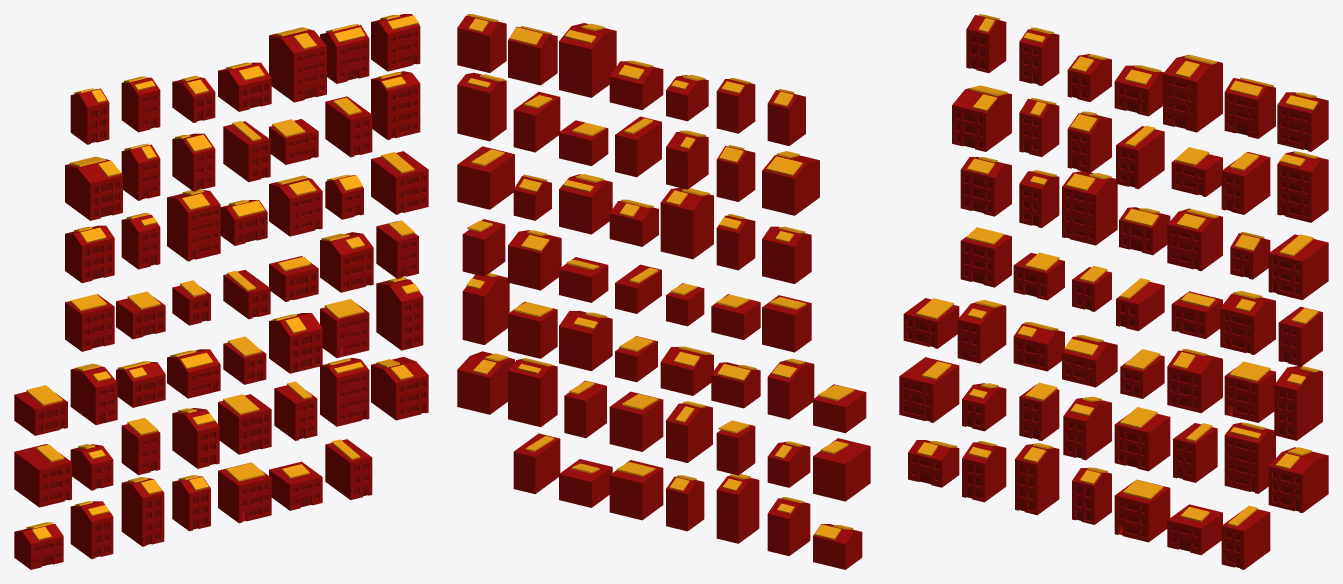
File: Sahne2Acilacak.gltf
3 renders of one model, left to right at view 1: azimuth 30°, elevation 25°; view 2: azimuth 150°, elevation 25°; view 3: azimuth 330°, elevation 25°, orthographic. The views are drawn at different scales.
Parts seen in each view (by area): view 1: Building_049.003, Building_037.003, Building_067.003, Building_061.003, Building_068.003, Building_020.003, Building_064.003, Building_065.003, Building_022.003, Building_059.003, Building_053.003, Building_051.003 (+39 smaller); view 2: Building_049.003, Building_037.003, Building_064.003, Building_061.003, Building_020.003, Building_067.003, Building_065.003, Building_053.003, Building_022.003, Building_068.003, Building_034.003, Building_051.003 (+39 smaller); view 3: Building_049.003, Building_037.003, Building_067.003, Building_068.003, Building_020.003, Building_064.003, Building_065.003, Building_061.003, Building_022.003, Building_059.003, Building_053.003, Building_051.003 (+39 smaller).
Boxes of the visible parts, x1,y1,x2,y2 form: Building_049.003: (269, 27, 326, 102); Building_037.003: (167, 189, 220, 261); Building_067.003: (376, 279, 423, 350); Building_061.003: (320, 358, 369, 426); Building_068.003: (371, 357, 428, 420); Building_020.003: (14, 444, 71, 507); Building_064.003: (371, 71, 420, 139); Building_065.003: (371, 151, 428, 214); Building_022.003: (65, 159, 122, 220); Building_059.003: (320, 232, 373, 292); Building_053.003: (269, 313, 322, 373); Building_051.003: (269, 178, 322, 236); Building_049.003: (559, 23, 616, 97); Building_037.003: (660, 188, 713, 259); Building_064.003: (457, 72, 506, 141); Building_061.003: (508, 359, 557, 427); Building_020.003: (813, 438, 870, 501); Building_067.003: (462, 274, 509, 344); Building_065.003: (457, 146, 514, 209); Building_053.003: (559, 310, 612, 371); Building_022.003: (762, 155, 819, 215); Building_068.003: (457, 351, 514, 414); Building_034.003: (716, 476, 759, 543); Building_051.003: (559, 174, 612, 234); Building_049.003: (1163, 54, 1222, 132); Building_037.003: (1062, 171, 1117, 245); Building_067.003: (1274, 366, 1322, 440); Building_068.003: (1268, 447, 1328, 512); Building_020.003: (899, 357, 959, 422); Building_064.003: (1277, 151, 1328, 222); Building_065.003: (1268, 234, 1328, 300); Building_061.003: (1224, 422, 1275, 493); Building_022.003: (952, 88, 1011, 151); Building_059.003: (1220, 293, 1275, 354); Building_053.003: (1167, 350, 1222, 413); Building_051.003: (1167, 208, 1222, 271).
Bounding box in the file's own units: 0.5815 × 0.6666 × 0.0652.
